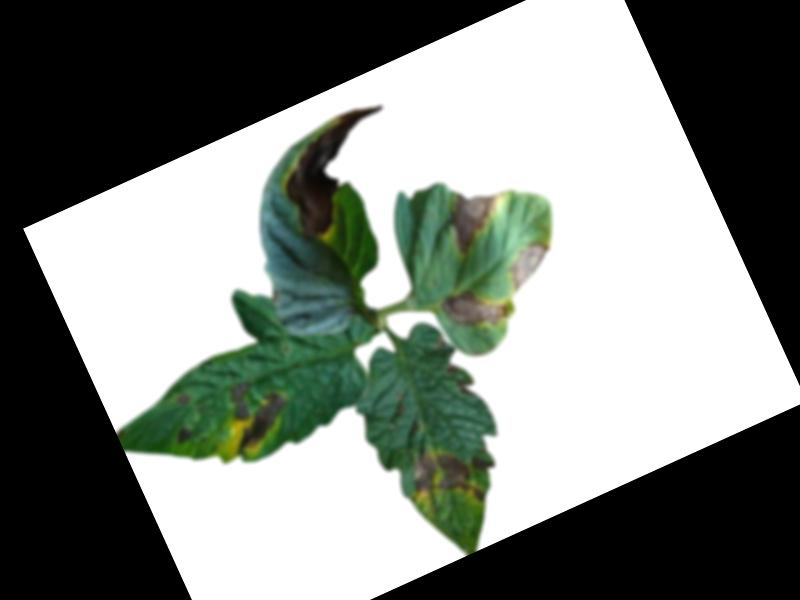Early_blight: (264, 97, 420, 242), (401, 433, 489, 524), (210, 369, 297, 456), (438, 177, 516, 253), (438, 273, 513, 342), (500, 235, 562, 291), (444, 357, 476, 401), (468, 449, 495, 477), (173, 422, 196, 444), (172, 388, 192, 406)
